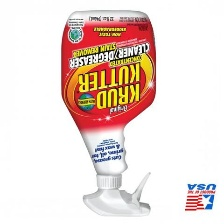cleaning_solution: (58, 7, 161, 219)
